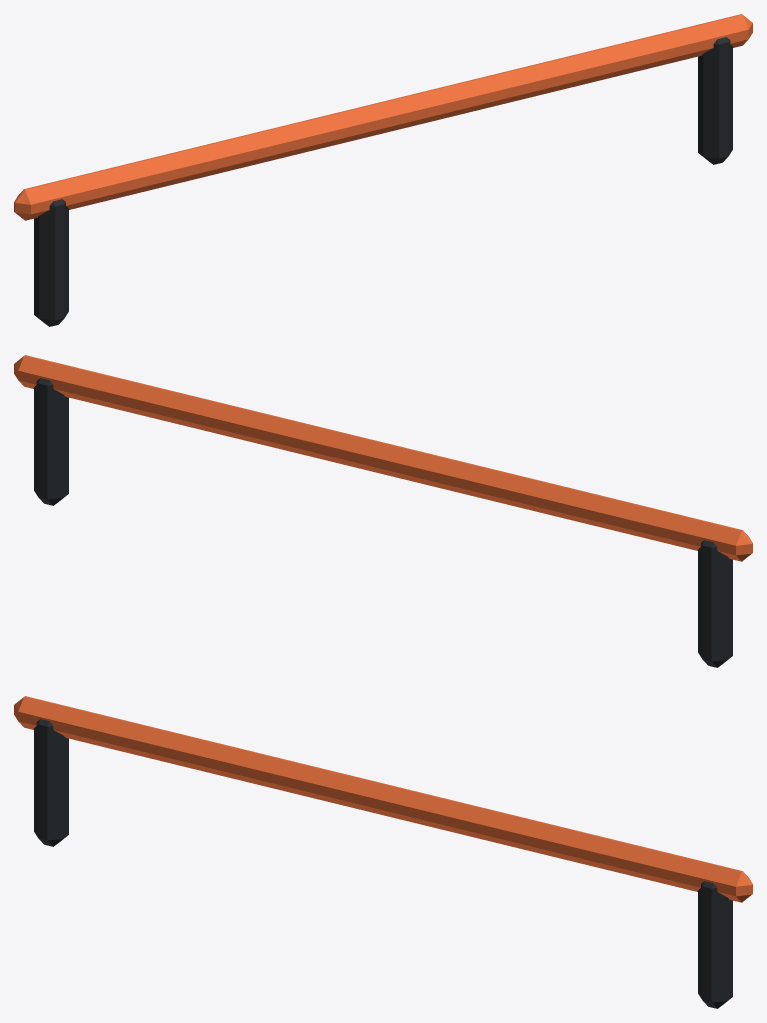
The model's file is fence.glb.
3 renders of one model, top to bottom at view 1: azimuth 30°, elevation 25°; view 2: azimuth 150°, elevation 25°; view 3: azimuth 330°, elevation 25°, orthographic.
Parts seen in each view (by area): view 1: rail, post.001, post; view 2: rail, post.001, post; view 3: rail, post, post.001.
Part boxes in pixels (x1,y1,x2,y2): rail: (14, 14, 752, 220); post.001: (698, 37, 732, 164); post: (34, 199, 68, 326); rail: (14, 355, 752, 561); post.001: (34, 378, 68, 505); post: (698, 540, 732, 667); rail: (14, 696, 752, 902); post: (34, 719, 68, 846); post.001: (698, 881, 732, 1008).
Size of the model in its own units: 4 by 0.73 by 0.16.
